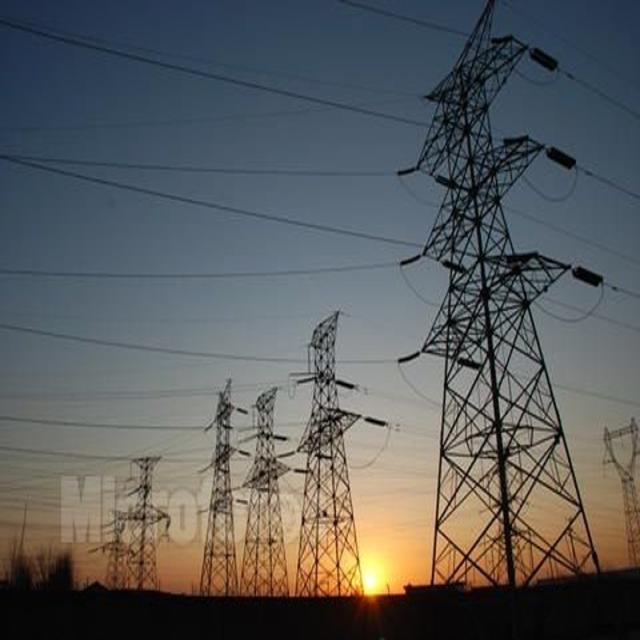non-critical vegetation: (389, 21, 602, 588), (299, 304, 361, 591), (181, 358, 246, 594), (240, 377, 298, 597)
